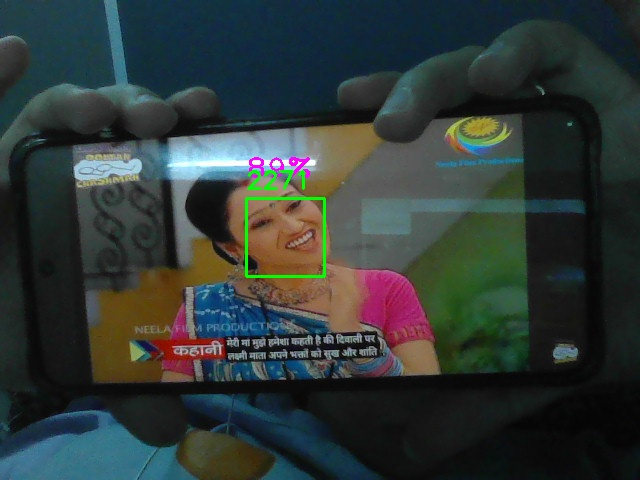fake: (246, 198, 325, 277)
